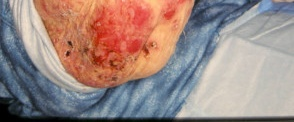SJS-TEN: (28, 0, 201, 94)
